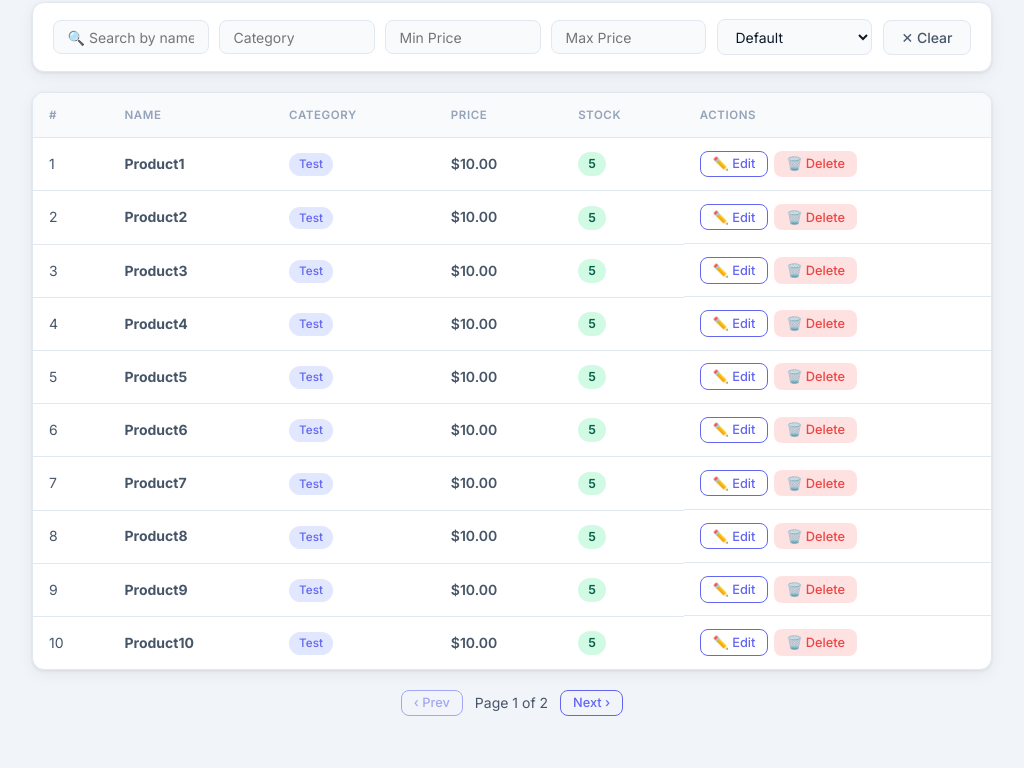
ProductList › pagination controls work
(page scrolled)
Check: the text "Product1" is shown, box [124,155,184,172]
Check: the text "Page 1 of 2" is shown, box [475,692,548,714]
Click the button with test id "page-next" at (592, 703), box [560,690,623,716]
(page scrolled)
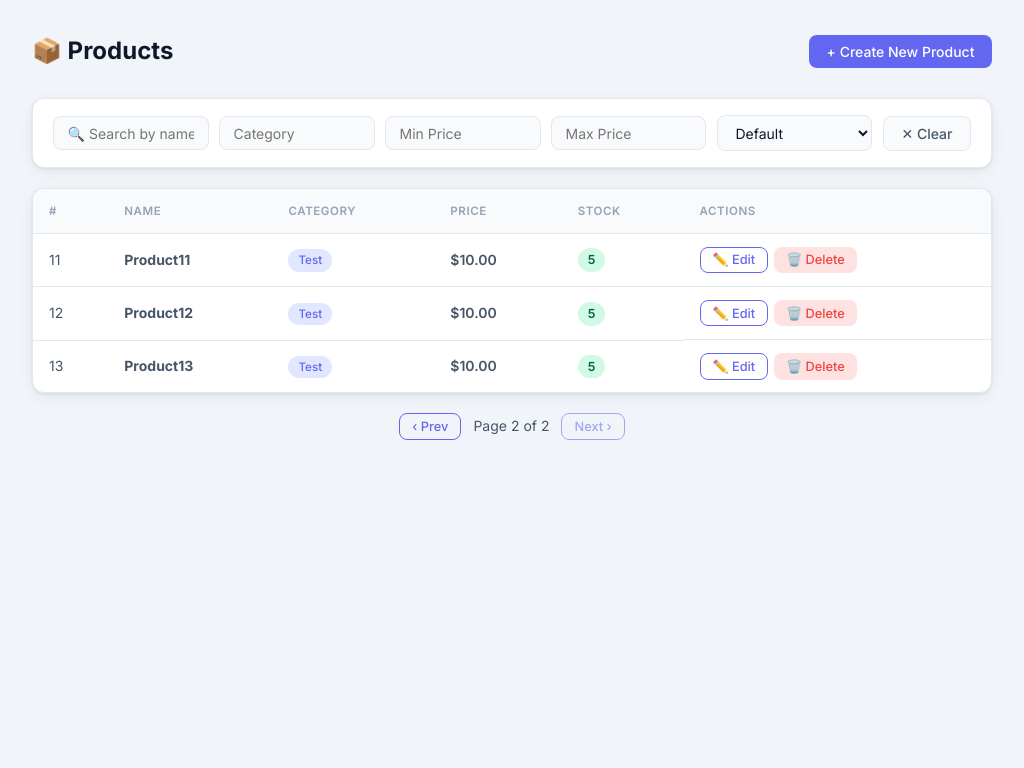
Check: the text "Page 2 of 2" is shown, box [473,415,549,438]
Click the button with test id "page-prev" at (430, 427), box [399,413,461,440]
(page scrolled)
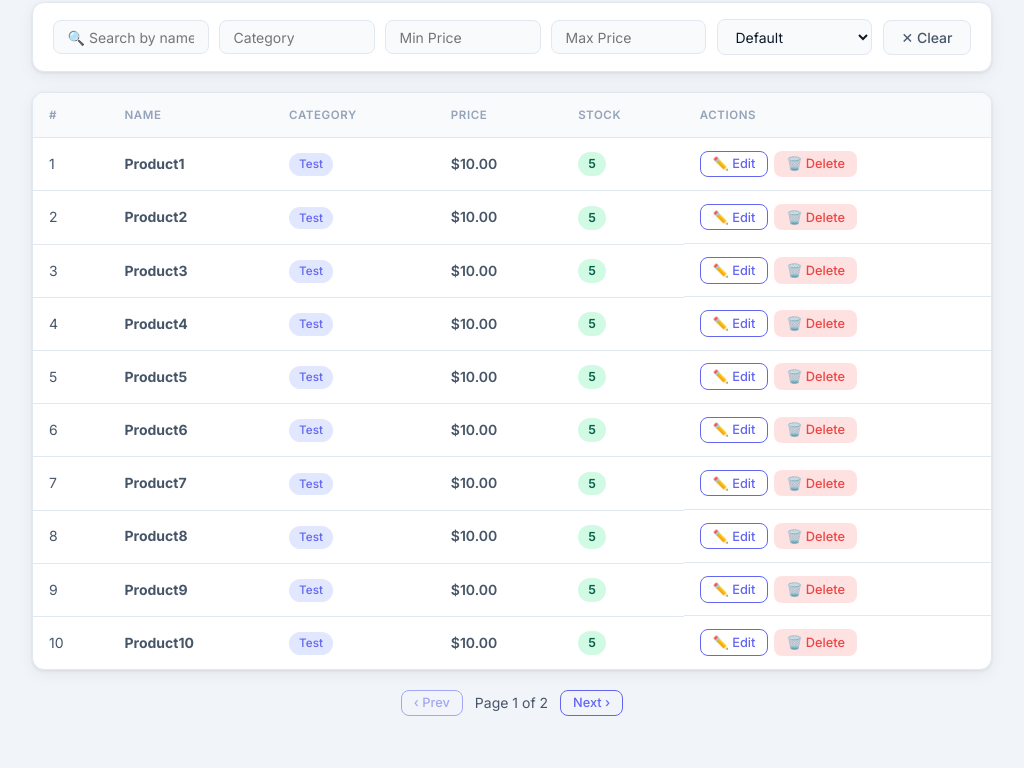
Check: the text "Page 1 of 2" is shown, box [475,692,548,714]
